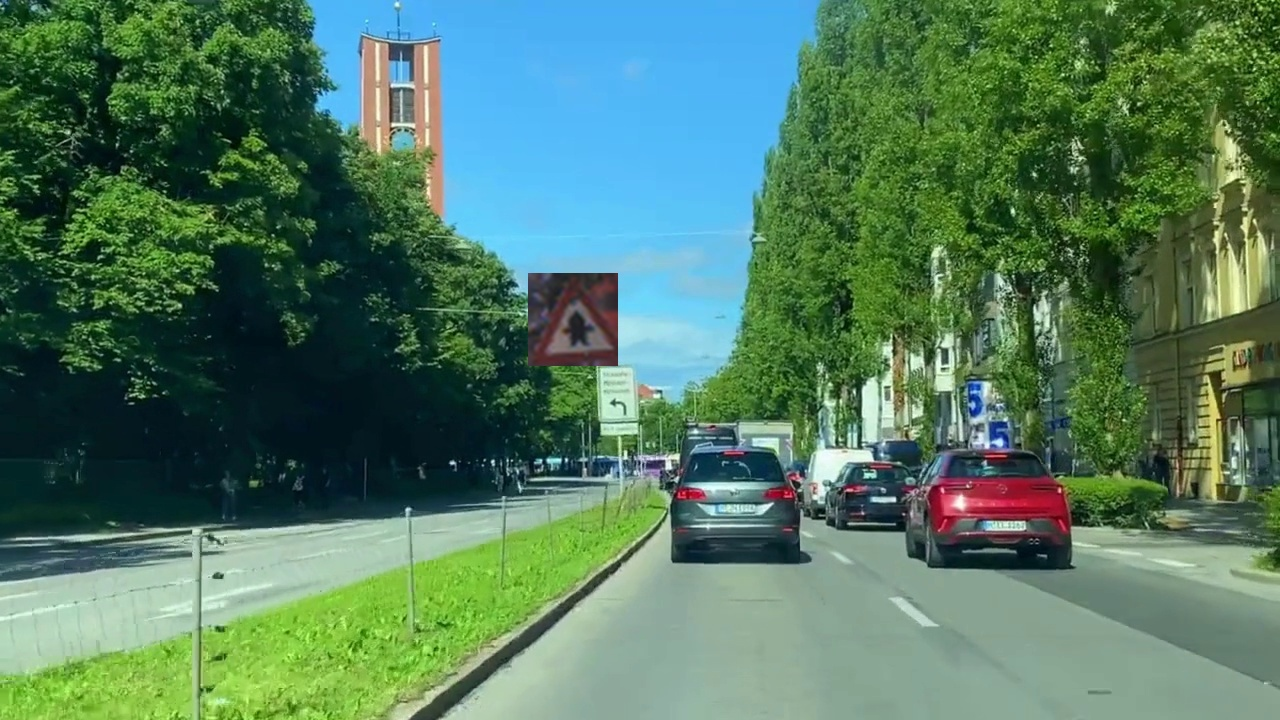Right-of-way: (528, 273, 618, 366)
